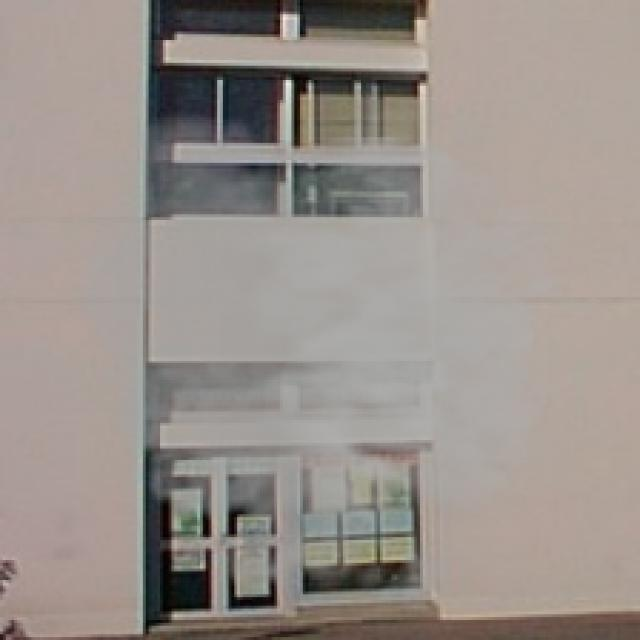Smoke: (45, 100, 606, 623)
